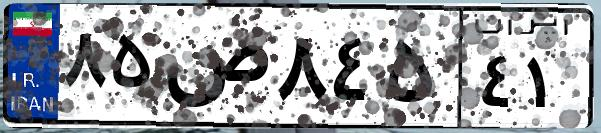1: (525, 38, 570, 115)
4: (330, 28, 385, 110), (475, 38, 525, 113)
5: (385, 28, 445, 110), (110, 28, 158, 98)
8: (270, 28, 330, 110), (57, 26, 110, 100)
ص: (158, 20, 270, 120)
